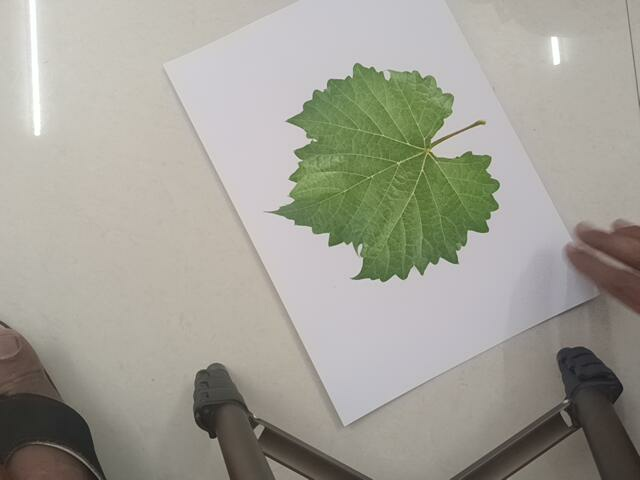Grape_Healthy: (266, 61, 507, 279)
